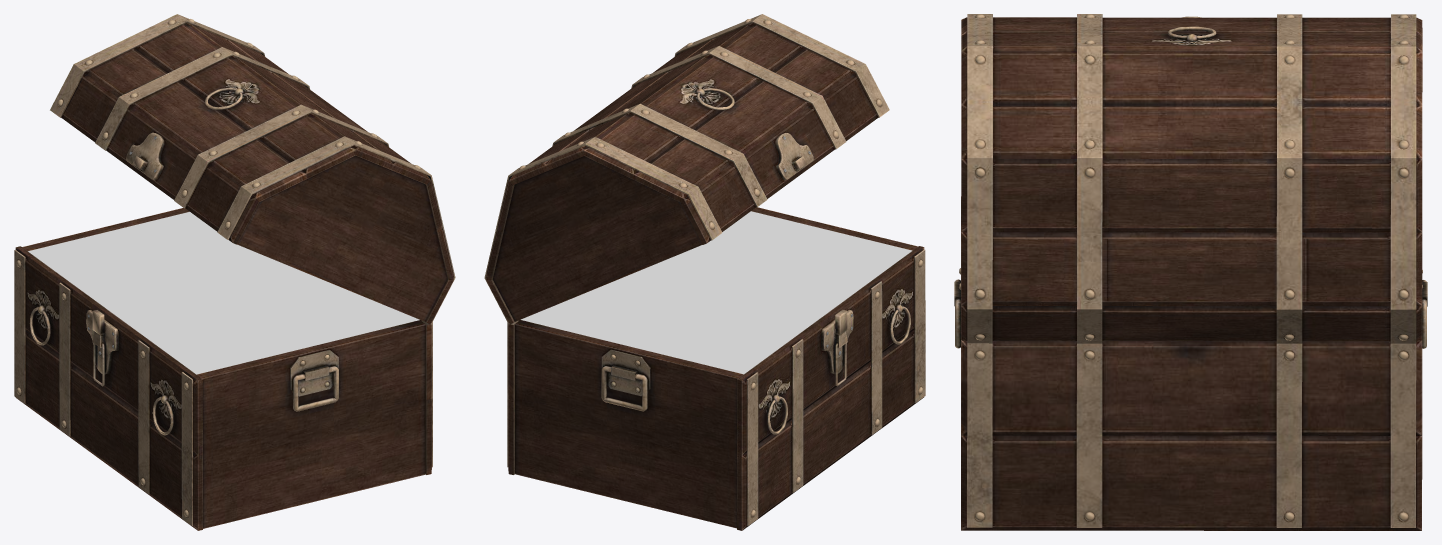
Rendered from treasure-chest-medium.glb.
3 renders of one model, left to right at view 1: azimuth 30°, elevation 25°; view 2: azimuth 150°, elevation 25°; view 3: azimuth 270°, elevation 25°, orthographic. The views are drawn at different scales.
Parts seen in each view (by area): view 1: chest_body, chest_inside; view 2: chest_body, chest_inside; view 3: chest_body.
Boxes of the visible parts, x1,y1,x2,y2 form: chest_body: [14, 14, 455, 530]; chest_inside: [28, 212, 419, 374]; chest_body: [484, 14, 925, 530]; chest_inside: [521, 211, 911, 374]; chest_body: [954, 14, 1427, 530].
Size of the model in its own units: 2.31 by 2.82 by 2.76.
2 materials, 1 textured.
